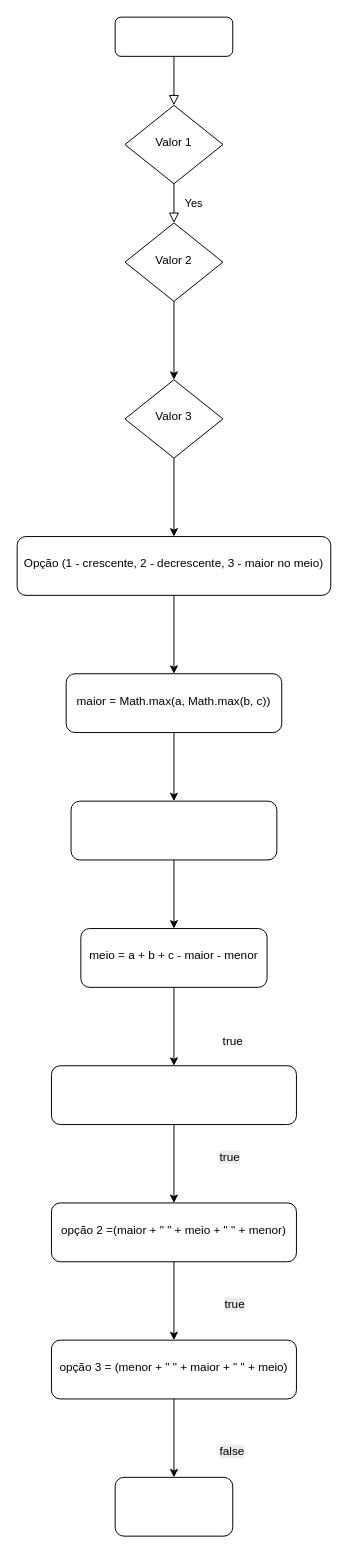
This 348x1553 diagram has some shape labels left out. Each missing label, with the centre of its shape:
ex24: (173,36)
menor = Math.min(a, Math.min(b, c)): (173,830)
opção 1 = (menor + " " + meio + " " + maior): (173,1095)
Opção inválida: (173,1506)
